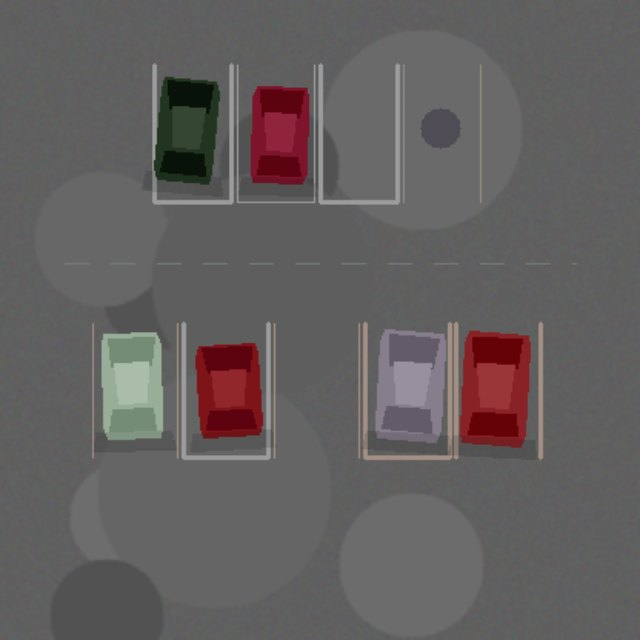space-empty: (274, 323, 358, 457), (320, 65, 397, 202), (403, 65, 480, 202)
space-occupied: (92, 323, 177, 457), (183, 323, 268, 457), (455, 323, 540, 457), (365, 323, 449, 457), (154, 65, 231, 202), (237, 65, 314, 202)
